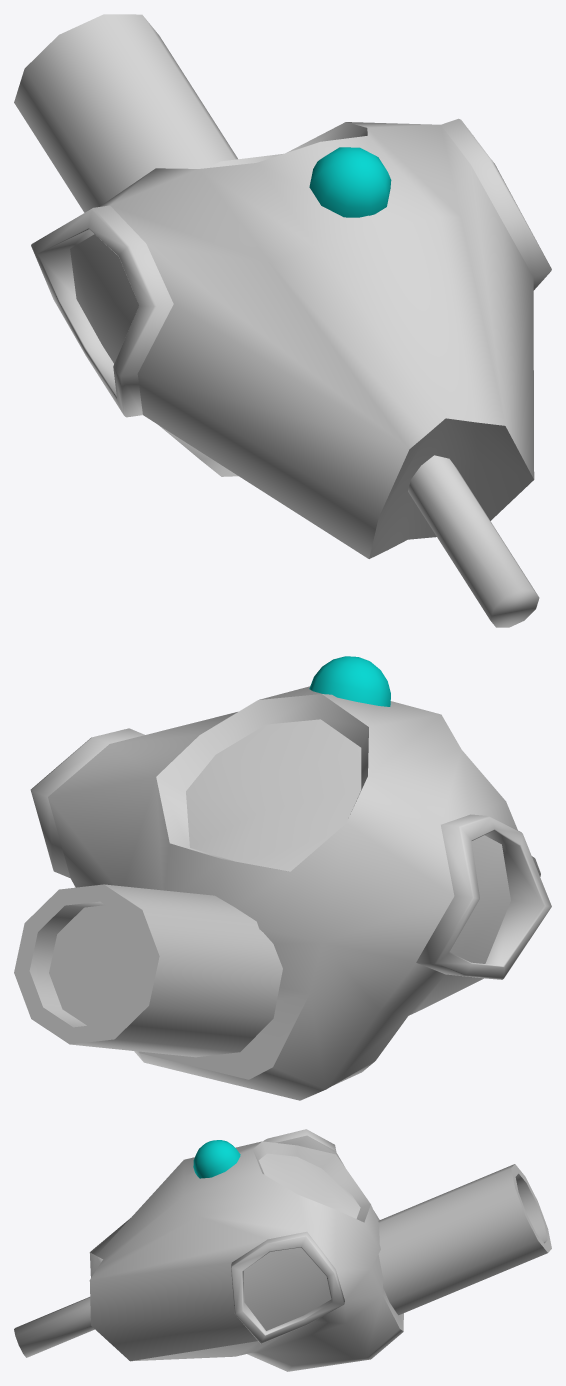
Rendered from Ranged_Body.fbx.
The picture shows the model from 3 angles, top to bottom: view 1: azimuth 30°, elevation 25°; view 2: azimuth 150°, elevation 25°; view 3: azimuth 270°, elevation 25°; orthographic projection. The views are drawn at different scales.
Parts seen in each view (by area): view 1: mesh_ranged_robot_Body; view 2: mesh_ranged_robot_Body; view 3: mesh_ranged_robot_Body.
Part boxes in pixels (box(x1,y1,x2,y2)): mesh_ranged_robot_Body: box(14, 14, 551, 627); mesh_ranged_robot_Body: box(14, 656, 551, 1100); mesh_ranged_robot_Body: box(14, 1129, 551, 1371).
Bounding box in the file's own units: 51.99 × 40.34 × 91.66.
